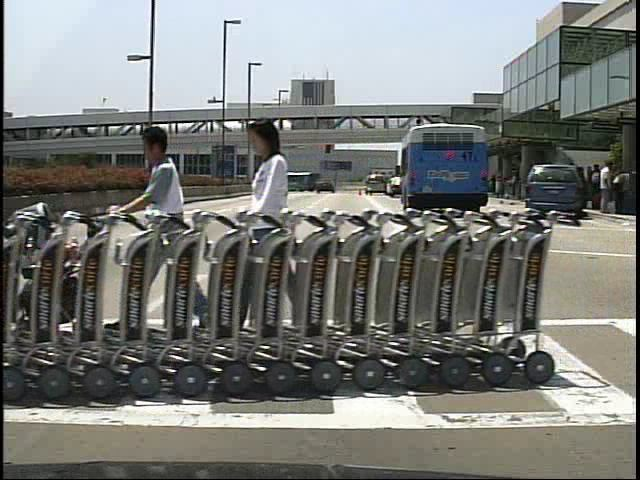person: (237, 114, 317, 349), (114, 120, 197, 339), (597, 160, 617, 214), (588, 164, 605, 214)
